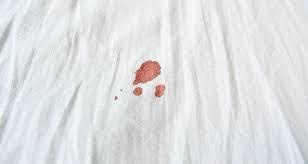blood: (132, 62, 163, 98)
